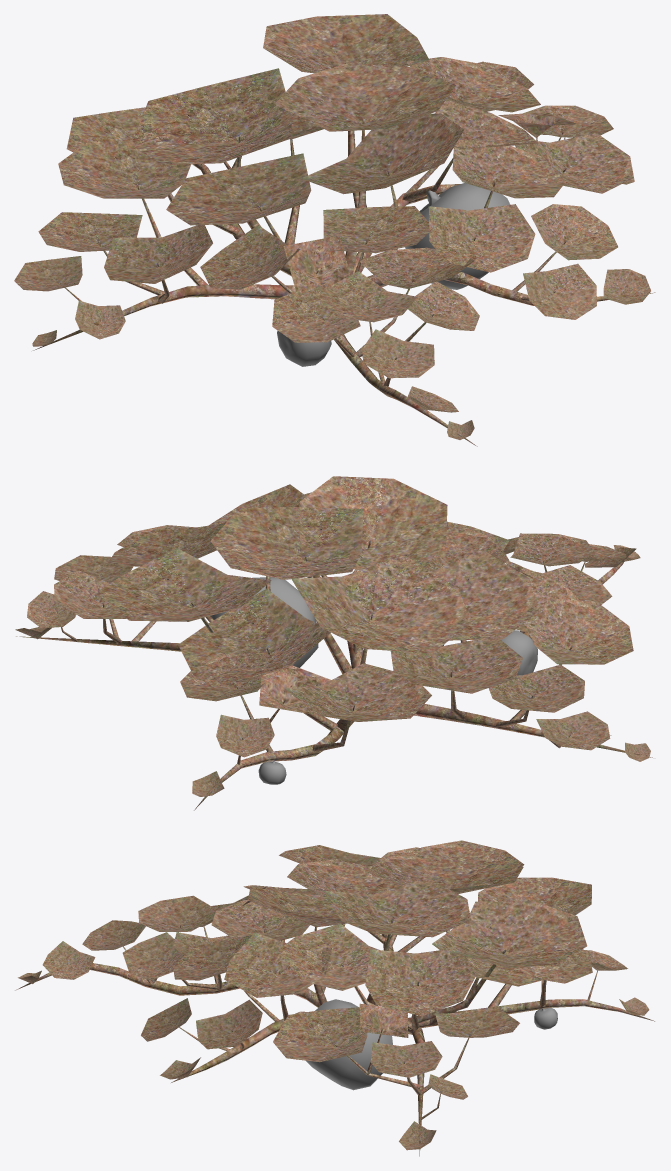
The model's file is pumpkin_plant.FBX.
The picture shows the model from 3 angles, top to bottom: view 1: azimuth 30°, elevation 25°; view 2: azimuth 150°, elevation 25°; view 3: azimuth 270°, elevation 25°; orthographic projection. The views are drawn at different scales.
Visible parts, largest first — view 1: pumpkin_plant; view 2: pumpkin_plant; view 3: pumpkin_plant.
Part boxes in pixels (left/top/right/bottom): pumpkin_plant: left=14, top=14, right=655, bottom=446; pumpkin_plant: left=15, top=476, right=652, bottom=810; pumpkin_plant: left=15, top=840, right=654, bottom=1156.
Bounding box in the file's own units: 91.88 × 26.28 × 95.26.
